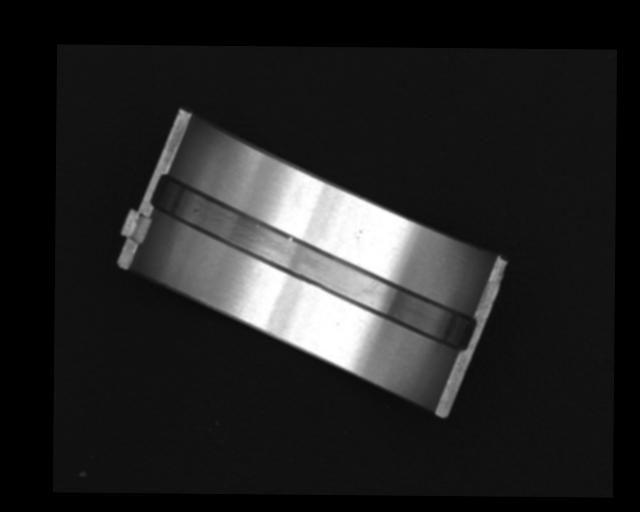gap: (149, 176, 478, 352)
